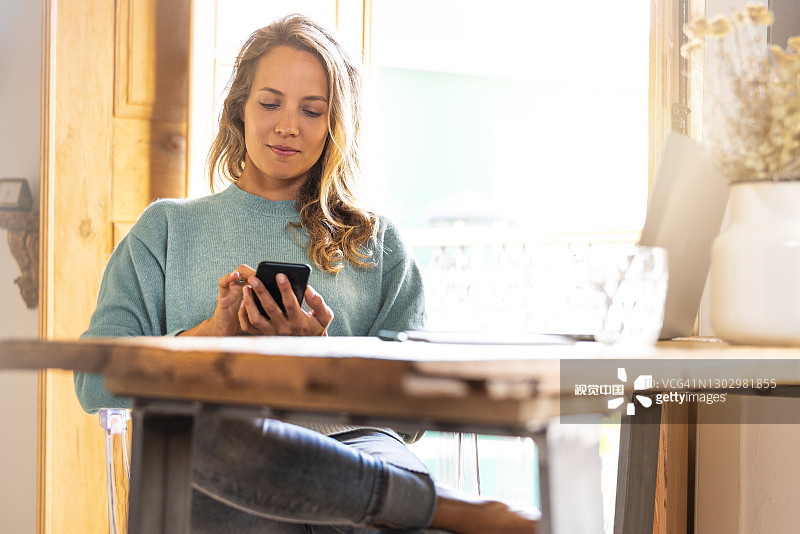reading: (185, 247, 342, 342)
